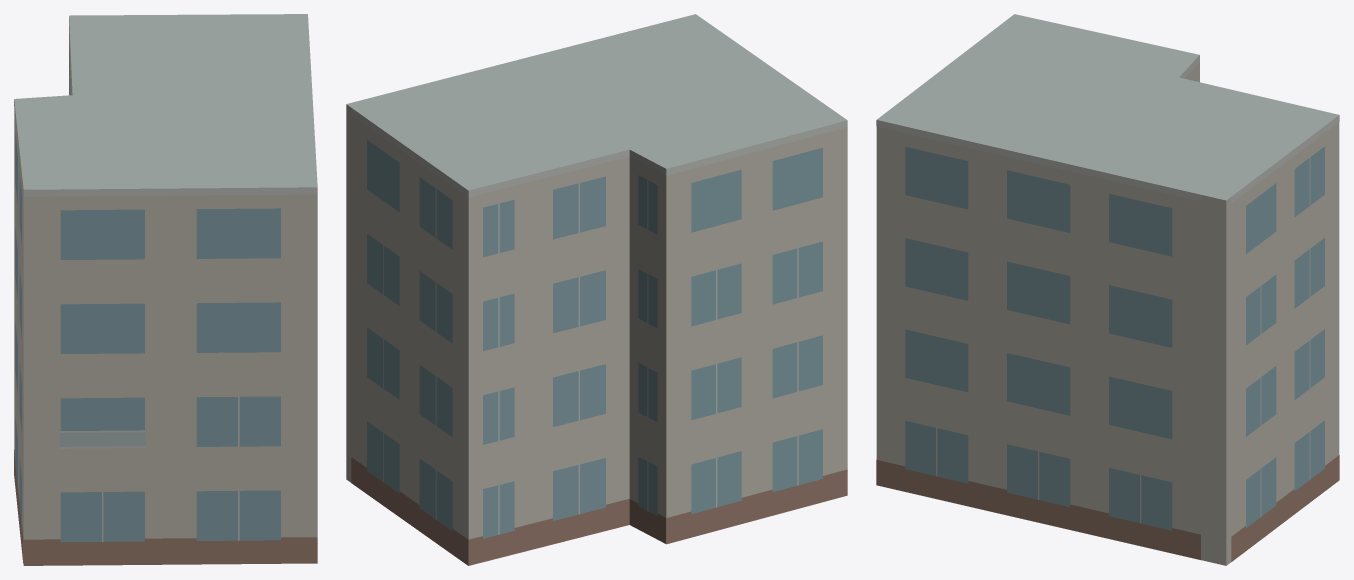
Rendered from survey-upis-32676106.glb.
3 renders of one model, left to right at view 1: azimuth 30°, elevation 25°; view 2: azimuth 150°, elevation 25°; view 3: azimuth 270°, elevation 25°, orthographic. The views are drawn at different scales.
Parts seen in each view (by area): view 1: survey-upis-32676106.tmp; view 2: survey-upis-32676106.tmp; view 3: survey-upis-32676106.tmp.
Part boxes in pixels (x1=…): survey-upis-32676106.tmp: x1=14, y1=14, x2=317, y2=565; survey-upis-32676106.tmp: x1=346, y1=14, x2=847, y2=565; survey-upis-32676106.tmp: x1=876, y1=14, x2=1339, y2=565.
Size of the model in its own units: 14.45 by 13.2 by 15.17.
